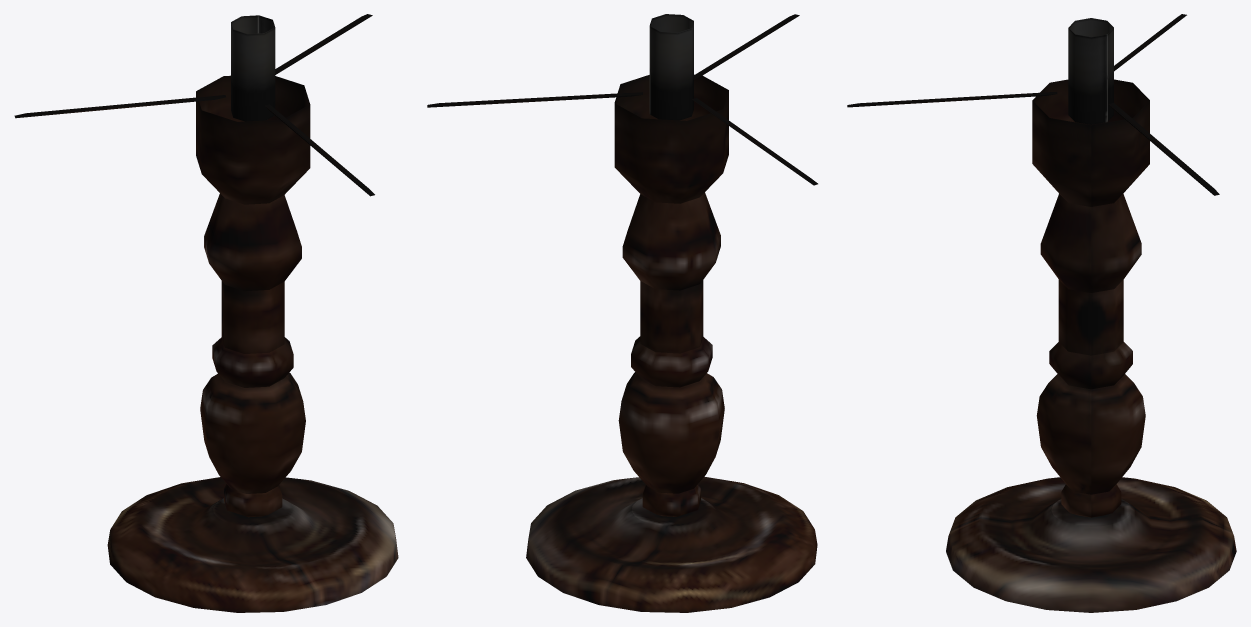
File: lampe02.fbx
3 renders of one model, left to right at view 1: azimuth 30°, elevation 25°; view 2: azimuth 150°, elevation 25°; view 3: azimuth 270°, elevation 25°, orthographic.
Parts seen in each view (by area): view 1: lampe02; view 2: lampe02; view 3: lampe02.
Part boxes in pixels (bbox=[...]): lampe02: bbox=[14, 14, 398, 612]; lampe02: bbox=[427, 14, 817, 612]; lampe02: bbox=[847, 14, 1236, 612].
Bounding box in the file's own units: 29.08 × 39.14 × 26.36.
